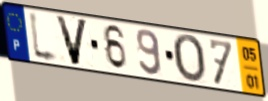6: (102, 23, 128, 72)
7: (208, 38, 235, 88)
9: (135, 28, 162, 78)
L: (27, 8, 61, 67)
O: (171, 33, 207, 86)
V: (53, 13, 90, 67)
